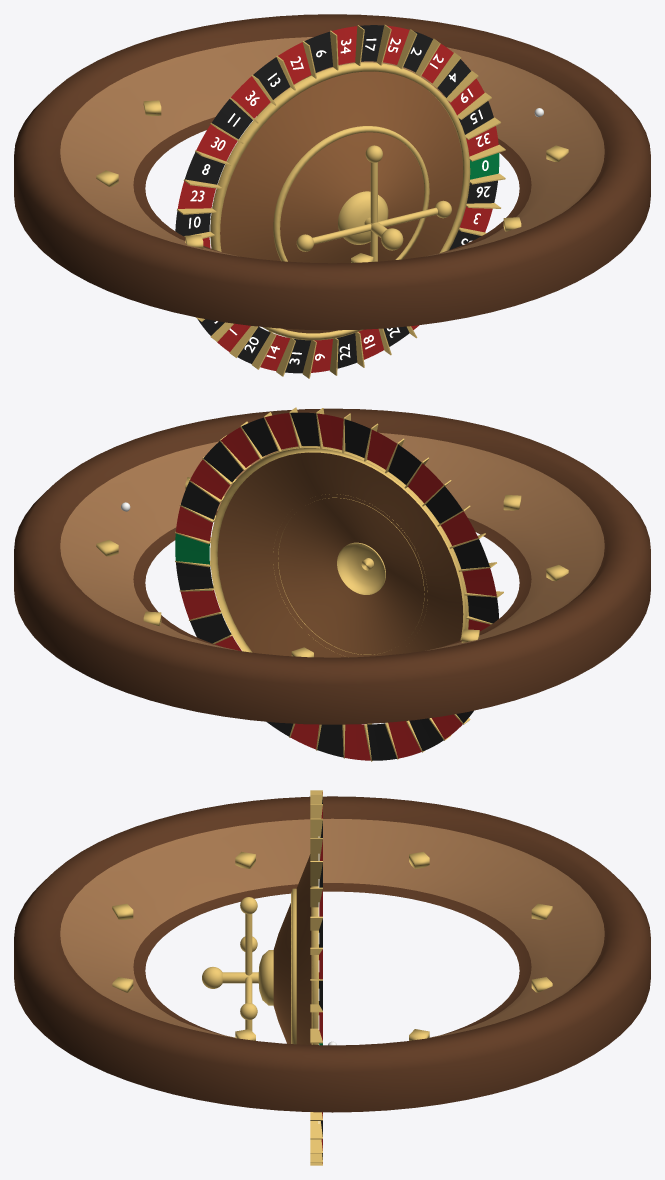
File: Ruleta.fbx
3 views of the same model, one above another, from view 1: azimuth 30°, elevation 25°; view 2: azimuth 150°, elevation 25°; view 3: azimuth 270°, elevation 25° (orthographic).
Visible parts, largest first — view 1: cuenco, cono_madera, pista_bola, aro_bronce, aro_medio, cubo_central, casillero_11, casillero_30, casillero_36, casillero_8, casillero_13, casillero_23 (+20 smaller); view 2: cuenco, cono_madera, pista_bola, aro_bronce, cubo_central, casillero_3, casillero_26, casillero_0, casillero_32, casillero_15, casillero_31, casillero_35 (+21 smaller); view 3: cuenco, pista_bola, cono_madera, aro_medio, aro_bronce, cubo_central.
Boxes of the visible parts, left/top/right/bottom form: cuenco: left=14, top=14, right=650, bottom=330; cono_madera: left=220, top=71, right=463, bottom=333; pista_bola: left=60, top=37, right=604, bottom=256; aro_bronce: left=210, top=62, right=470, bottom=340; aro_medio: left=273, top=126, right=429, bottom=261; cubo_central: left=338, top=191, right=388, bottom=244; casillero_11: left=212, top=99, right=252, bottom=139; casillero_30: left=196, top=124, right=237, bottom=161; casillero_36: left=231, top=76, right=270, bottom=118; casillero_8: left=185, top=152, right=224, bottom=184; casillero_13: left=253, top=57, right=290, bottom=99; casillero_23: left=177, top=181, right=215, bottom=208; cuenco: left=14, top=408, right=650, bottom=724; cono_madera: left=217, top=452, right=463, bottom=657; pista_bola: left=60, top=432, right=604, bottom=650; aro_bronce: left=210, top=446, right=468, bottom=652; cubo_central: left=337, top=542, right=385, bottom=594; casillero_3: left=180, top=590, right=220, bottom=619; casillero_26: left=176, top=562, right=213, bottom=590; casillero_0: left=175, top=533, right=209, bottom=564; casillero_32: left=176, top=506, right=213, bottom=541; casillero_15: left=180, top=481, right=219, bottom=519; casillero_31: left=367, top=723, right=396, bottom=760; casillero_35: left=190, top=613, right=231, bottom=643; cuenco: left=14, top=796, right=650, bottom=1112; pista_bola: left=60, top=818, right=604, bottom=1037; cono_madera: left=273, top=854, right=311, bottom=1044; aro_medio: left=291, top=888, right=296, bottom=1044; aro_bronce: left=311, top=886, right=318, bottom=1044; cubo_central: left=258, top=950, right=273, bottom=1005.
Size of the model in its own units: 8 by 4.72 by 8.
